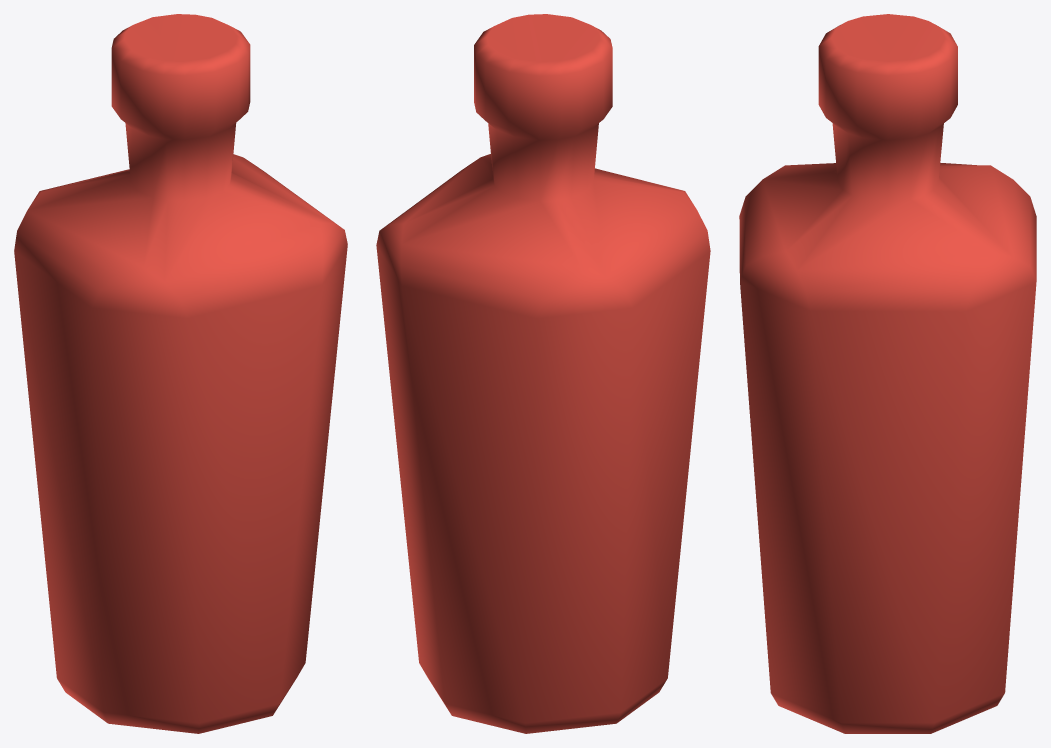
Rendered from potion_PH.fbx.
3 views of the same model, side by side, from view 1: azimuth 30°, elevation 25°; view 2: azimuth 150°, elevation 25°; view 3: azimuth 270°, elevation 25° (orthographic).
Parts seen in each view (by area): view 1: pot_PH; view 2: pot_PH; view 3: pot_PH.
Part boxes in pixels (bbox=[...]): pot_PH: bbox=[14, 14, 347, 733]; pot_PH: bbox=[376, 14, 710, 733]; pot_PH: bbox=[739, 14, 1036, 733].
Bounding box in the file's own units: 56.6 × 138 × 56.57.
